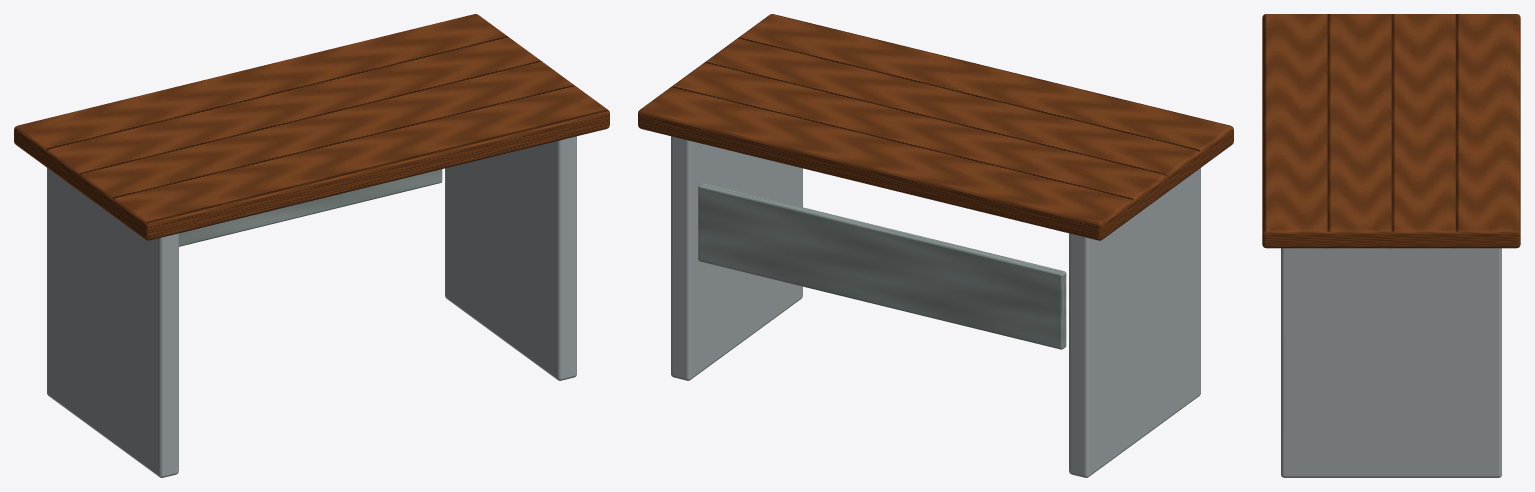
File: liminal-spaces-kit-empty-desk-0b98073d__25245.glb
The picture shows the model from 3 angles, left to right: view 1: azimuth 30°, elevation 25°; view 2: azimuth 150°, elevation 25°; view 3: azimuth 270°, elevation 25°; orthographic projection. The views are drawn at different scales.
Parts seen in each view (by area): view 1: empty-desk; view 2: empty-desk; view 3: empty-desk.
Boxes of the visible parts, x1=… form: empty-desk: x1=14, y1=14, x2=609, y2=477; empty-desk: x1=638, y1=14, x2=1233, y2=477; empty-desk: x1=1262, y1=14, x2=1520, y2=477.
Bounding box in the file's own units: 1.4 × 0.7751 × 0.7001.
3 materials, 2 textured.
